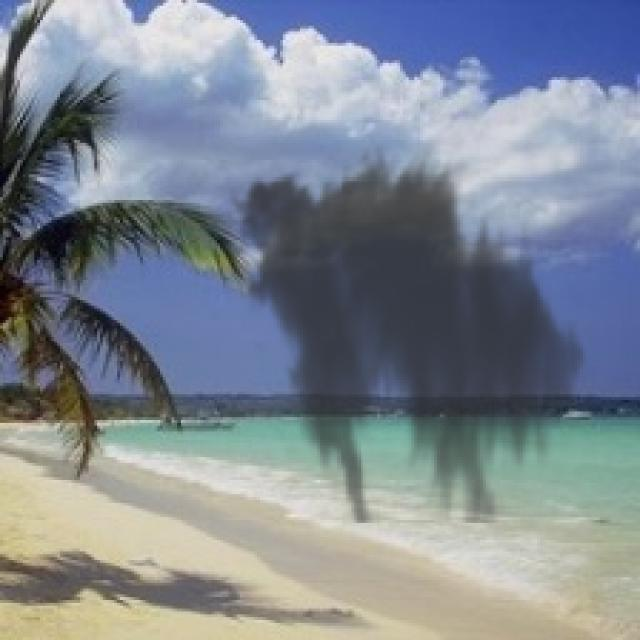smoke: (220, 140, 597, 523)
